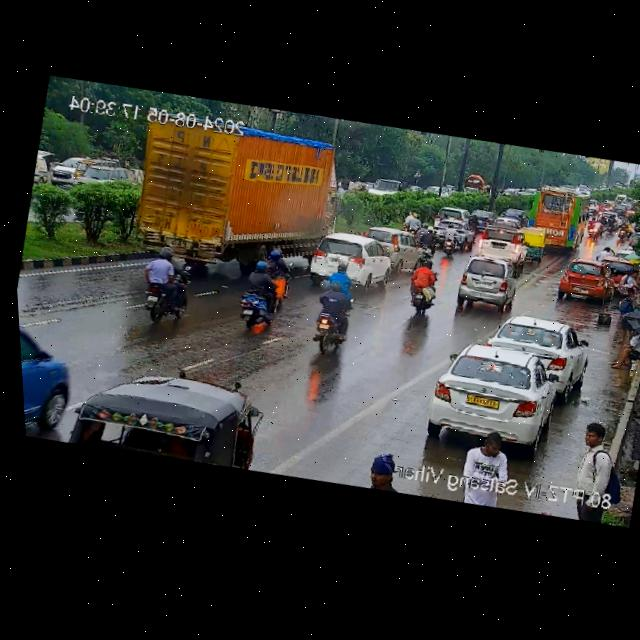bus: (518, 177, 595, 254)
car: (65, 352, 272, 480), (419, 331, 579, 460), (19, 315, 86, 443), (485, 307, 589, 385), (301, 225, 397, 289), (454, 248, 530, 313), (355, 222, 427, 271), (555, 254, 618, 304), (472, 223, 535, 270), (612, 284, 640, 344), (79, 159, 126, 191), (589, 192, 633, 220), (47, 152, 77, 188), (367, 175, 406, 201), (430, 203, 470, 226), (517, 225, 549, 252), (70, 155, 95, 183), (486, 214, 521, 231), (464, 207, 493, 223), (504, 205, 524, 219)
motorcycle: (129, 243, 202, 325), (301, 262, 364, 357), (232, 239, 297, 329), (399, 257, 443, 319), (422, 220, 466, 260), (601, 211, 637, 241), (586, 213, 605, 240), (516, 212, 525, 222)
person: (562, 418, 623, 502), (453, 428, 519, 488), (604, 316, 640, 377), (364, 449, 402, 493), (615, 267, 639, 293)
truck: (113, 98, 353, 290), (461, 174, 491, 198)
